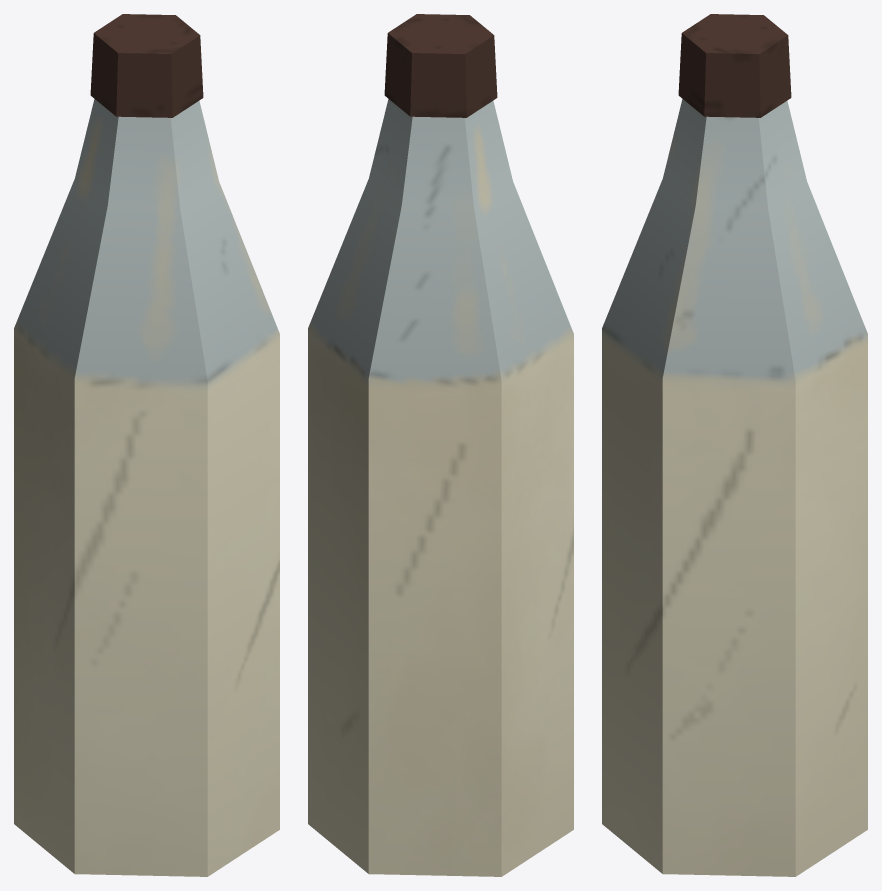
Rendered from Caramel_shake.fbx.
3 renders of one model, left to right at view 1: azimuth 30°, elevation 25°; view 2: azimuth 150°, elevation 25°; view 3: azimuth 270°, elevation 25°, orthographic.
Parts seen in each view (by area): view 1: Caramel_shake; view 2: Caramel_shake; view 3: Caramel_shake.
Part boxes in pixels (x1,y1,x2,y2): Caramel_shake: (14,14,279,876); Caramel_shake: (308,14,573,876); Caramel_shake: (602,14,867,876).
Size of the model in its own units: 10.32 by 38.09 by 11.58.
